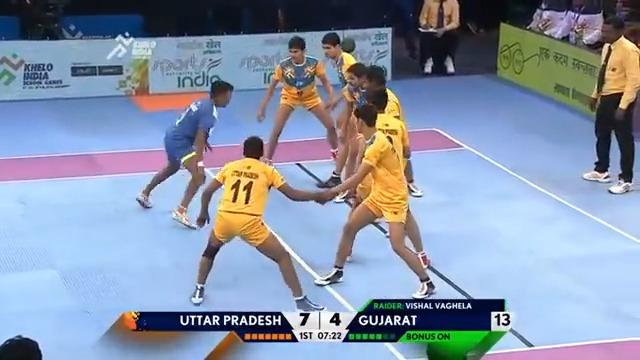Player: (189, 135, 341, 312), (313, 102, 436, 299), (255, 34, 339, 166), (343, 64, 423, 197)
Raider: (135, 79, 233, 229)
referee: (581, 15, 639, 193), (416, 0, 460, 75)
